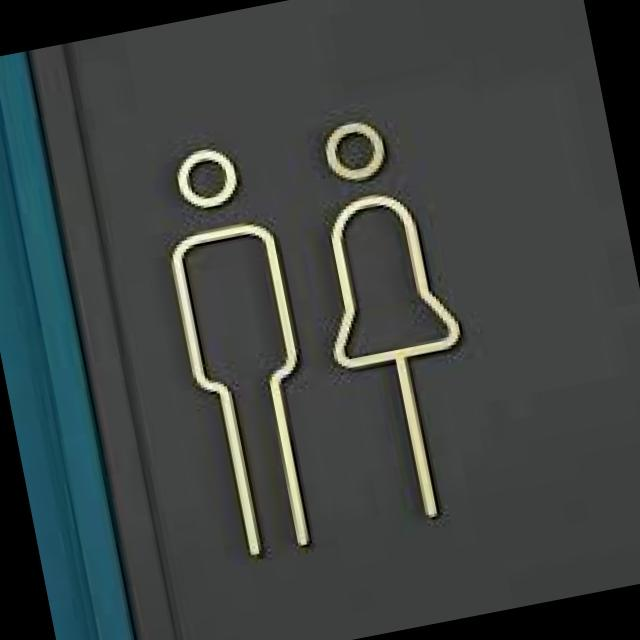toilet_icon: (128, 86, 509, 586)
